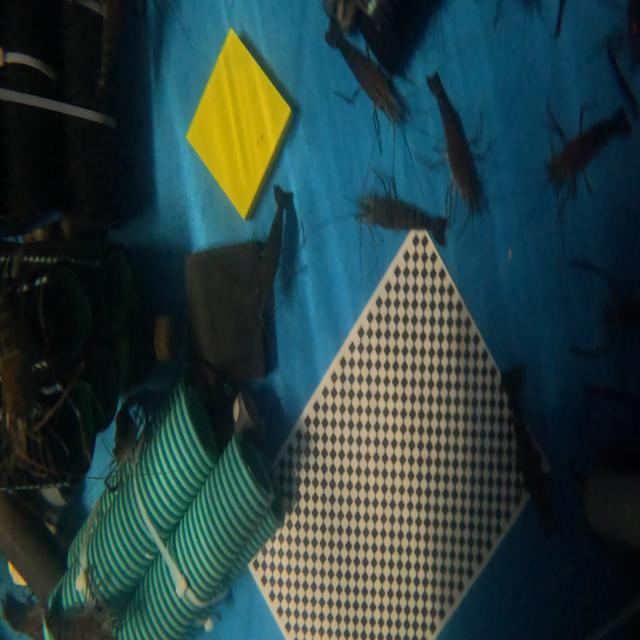prawn: (326, 17, 403, 120), (427, 73, 483, 212), (501, 367, 551, 501), (548, 109, 630, 186), (358, 194, 446, 243), (260, 189, 289, 290)
